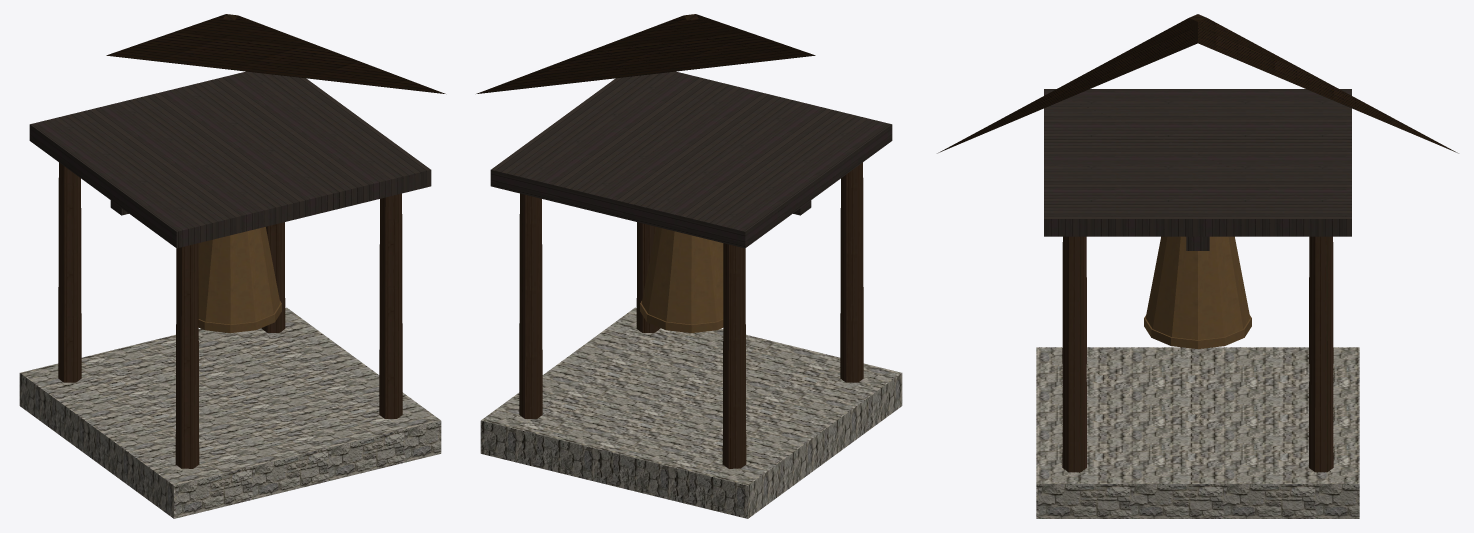
Rendered from bell_pavilion_01.glb.
The picture shows the model from 3 angles, left to right: view 1: azimuth 30°, elevation 25°; view 2: azimuth 150°, elevation 25°; view 3: azimuth 270°, elevation 25°; orthographic projection. The views are drawn at different scales.
Parts seen in each view (by area): view 1: bell_pavilion_01; view 2: bell_pavilion_01; view 3: bell_pavilion_01.
Boxes of the visible parts, x1=… form: bell_pavilion_01: x1=19, y1=14, x2=445, y2=518; bell_pavilion_01: x1=476, y1=14, x2=902, y2=518; bell_pavilion_01: x1=937, y1=14, x2=1458, y2=518.
Size of the model in its own units: 6.8 by 6.2 by 6.8.
Materials: 6 (6 with a texture image).
